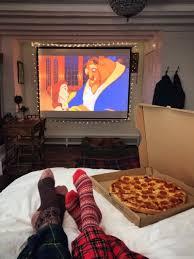pizza: (109, 176, 183, 211)
